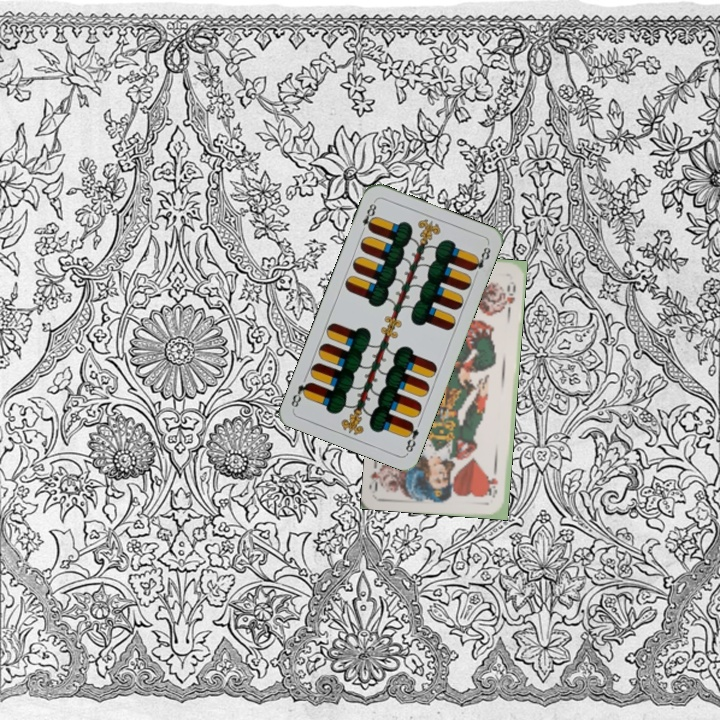E8: (357, 197, 379, 236), (401, 418, 421, 456)
HO: (485, 462, 500, 500)
